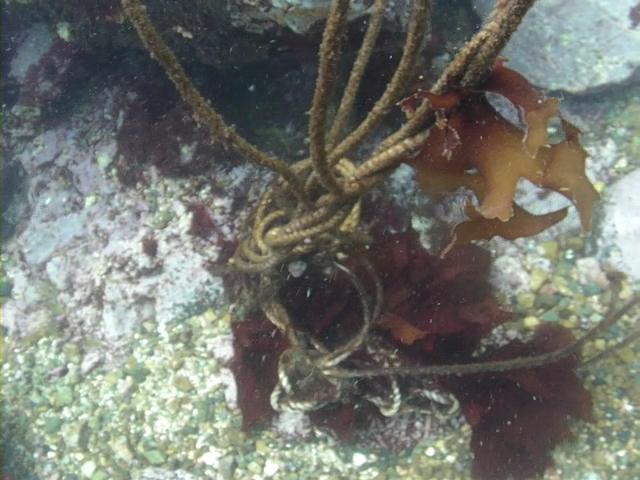bundle of ropes: (118, 0, 640, 414)
